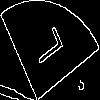L: (25, 25, 64, 72)
